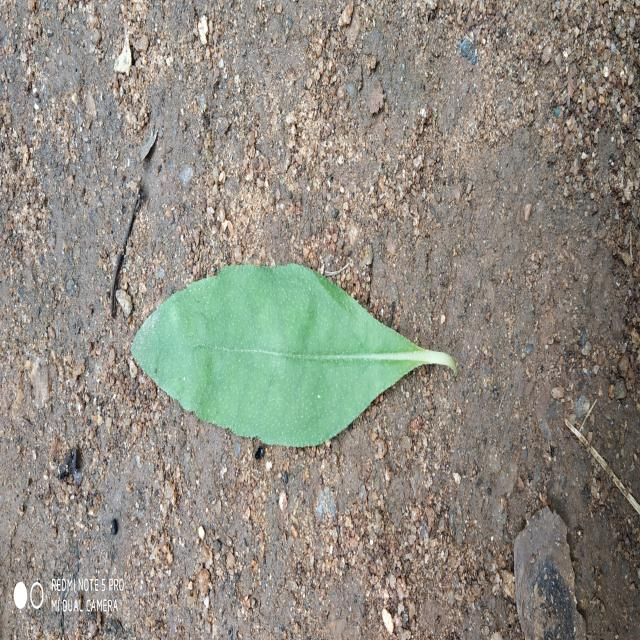bringaraja: (131, 262, 455, 445)
